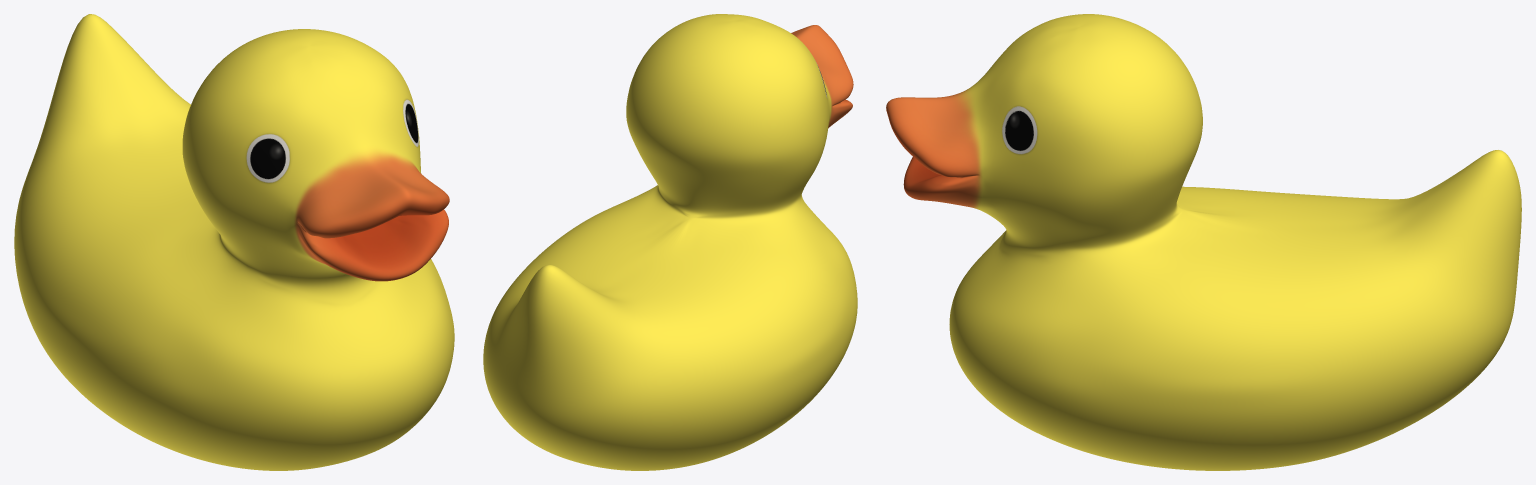
File: ahiru_02.fbx
The picture shows the model from 3 angles, left to right: view 1: azimuth 30°, elevation 25°; view 2: azimuth 150°, elevation 25°; view 3: azimuth 270°, elevation 25°; orthographic projection. The views are drawn at different scales.
Parts seen in each view (by area): view 1: pSphere3; view 2: pSphere3; view 3: pSphere3.
Boxes of the visible parts, left/top/right/bottom form: pSphere3: left=14, top=14, right=454, bottom=470; pSphere3: left=483, top=14, right=857, bottom=470; pSphere3: left=886, top=14, right=1521, bottom=470.
Bounding box in the file's own units: 4.87 × 6.07 × 8.31.
Materials: 1 (1 with a texture image).
